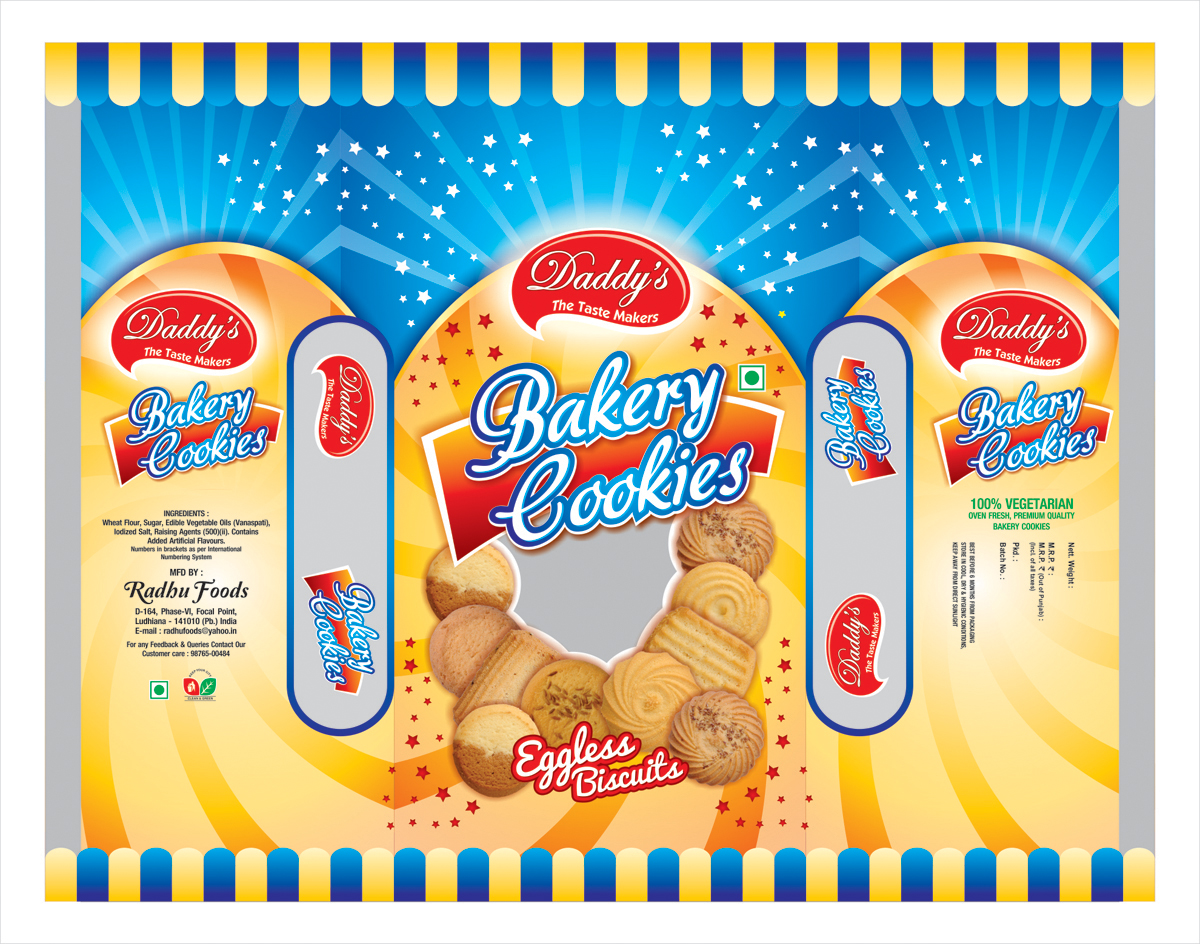VEG: (737, 363, 767, 395), (147, 679, 168, 702)
